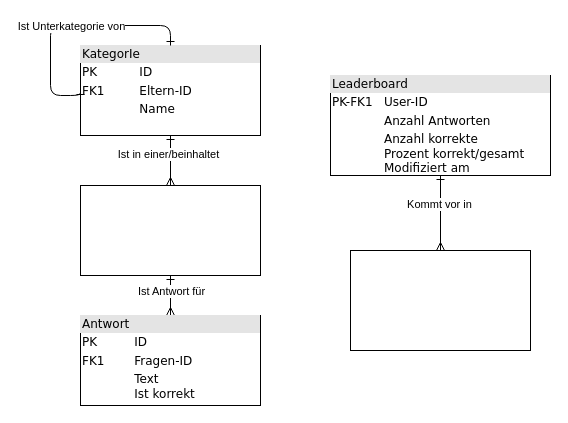
This 568x423 diagram has some shape labels left out. The box of each missing label's shape, as (x1, y1, x2, y2) in pixels:
Frage PK ID FK1 Kategorie-ID Text: (80, 184, 260, 276)
Nutzer PK ID Username Passwort-Hash Ist Admin Erstellt am: (350, 250, 530, 350)
